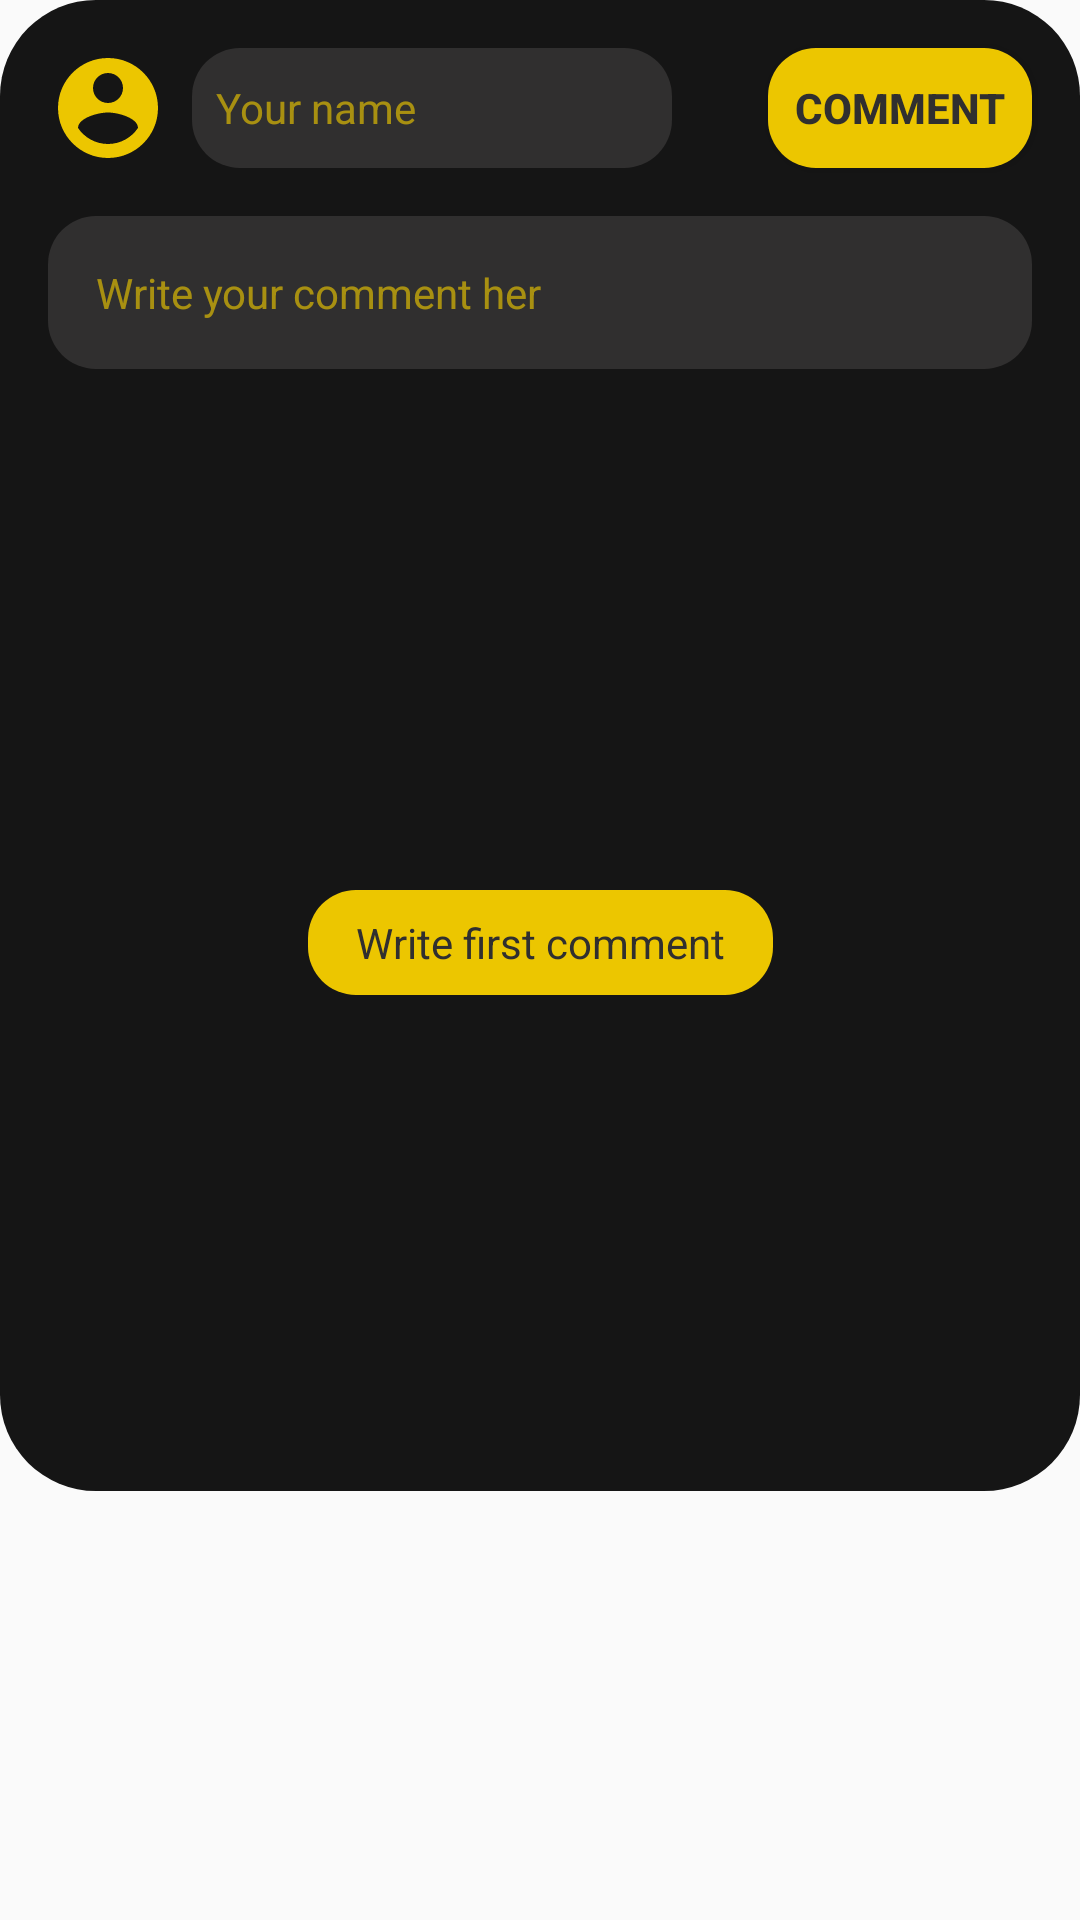

Point at icon controls on the screen. Image size 1080px×1920px, points as (x=x, y=y).
account circle: (x=108, y=108)
